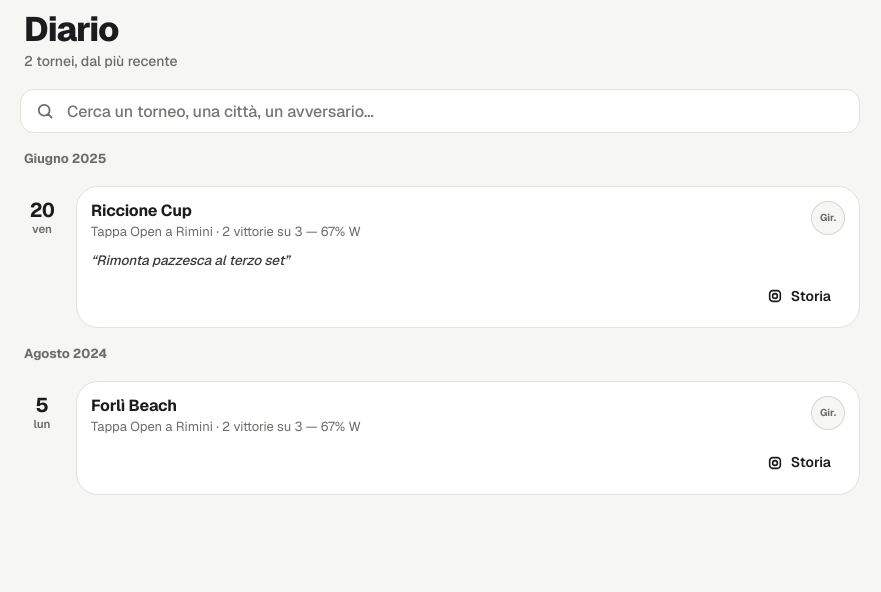
Test: Diario — pulsante di reset › compare solo con una query in corso
The width and height of the screenshot is (881, 592).
Expected: the link "Riccione Cup" is shown, [91,200,192,221]
Click the search field named "Cerca nel diario": (435,111) [65,90,805,132]
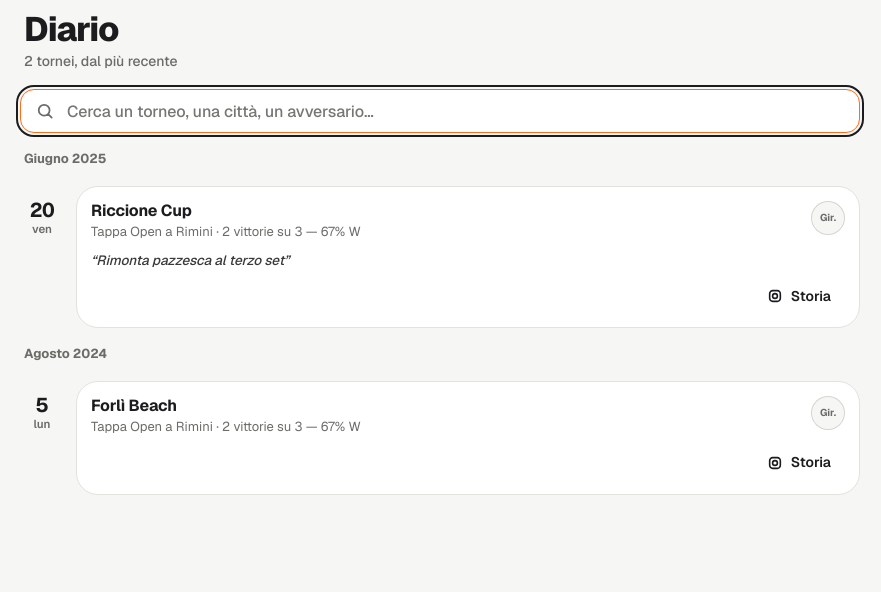
Type keys "f"
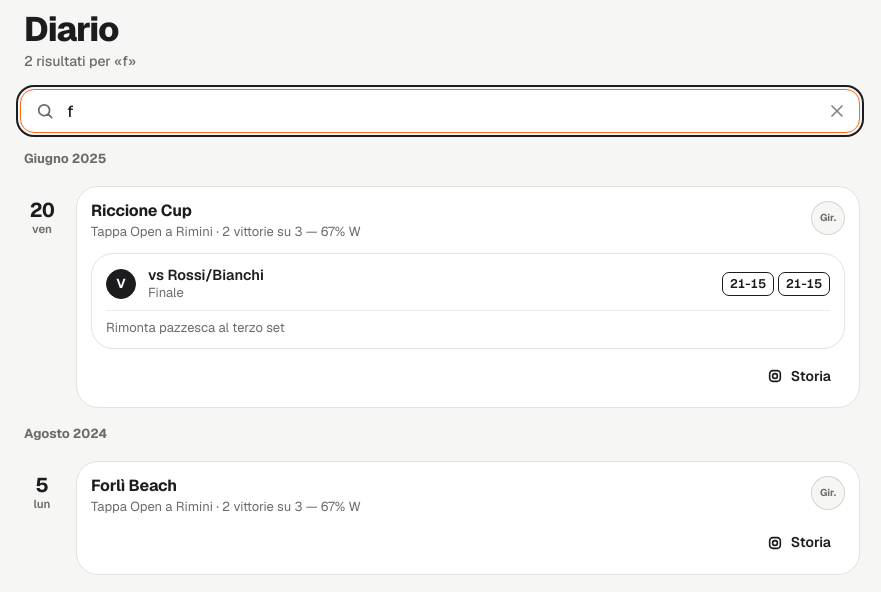
Now the button named "Cancella la ricerca" is shown, box [815,89,859,133]
